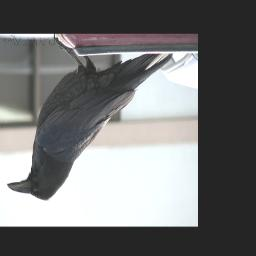Crow: (6, 36, 174, 201)
